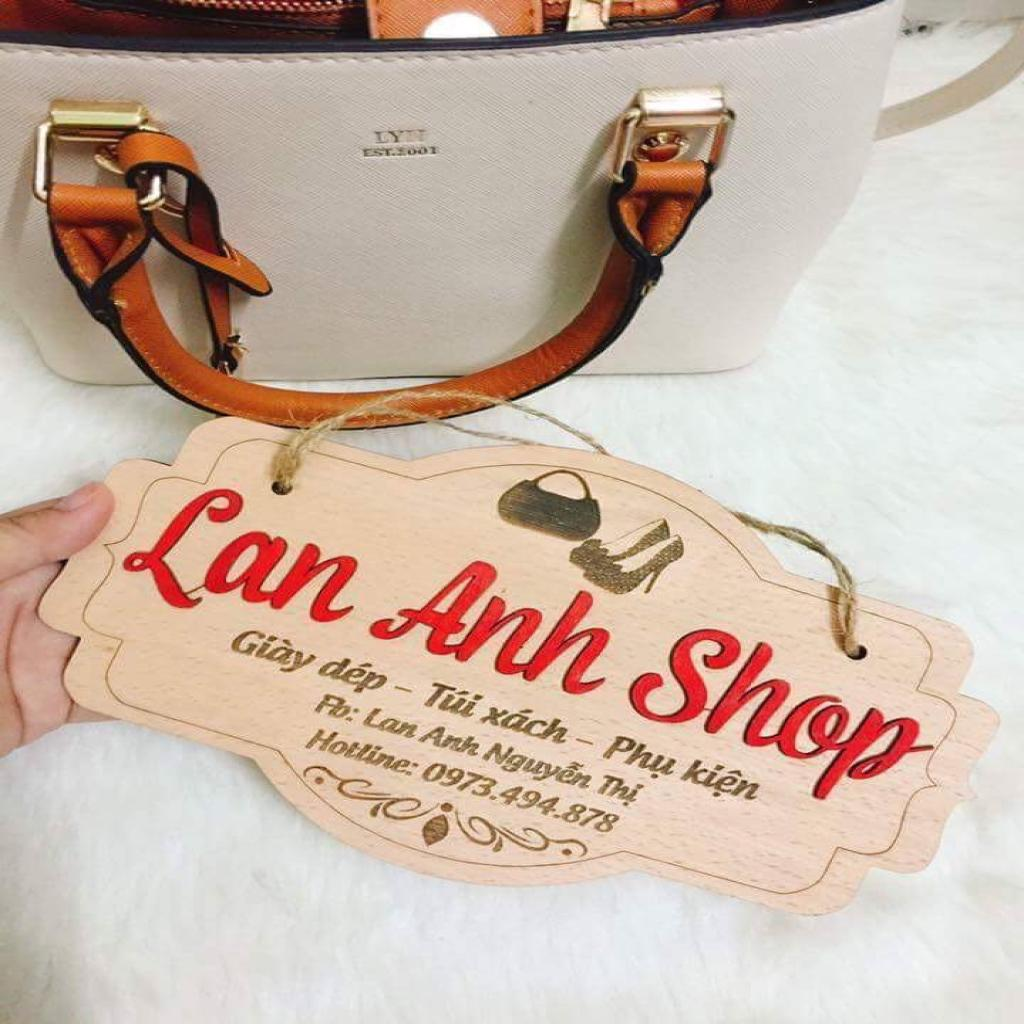text: (606, 611, 958, 826), (106, 476, 416, 652), (357, 543, 650, 706), (418, 758, 626, 838), (474, 699, 608, 755), (299, 724, 428, 782), (474, 736, 602, 794), (306, 653, 426, 705), (226, 624, 330, 677), (672, 753, 772, 808), (596, 732, 688, 784), (417, 677, 492, 721), (414, 722, 486, 760), (358, 703, 428, 742), (308, 687, 368, 726), (589, 772, 648, 811), (368, 127, 431, 146)
